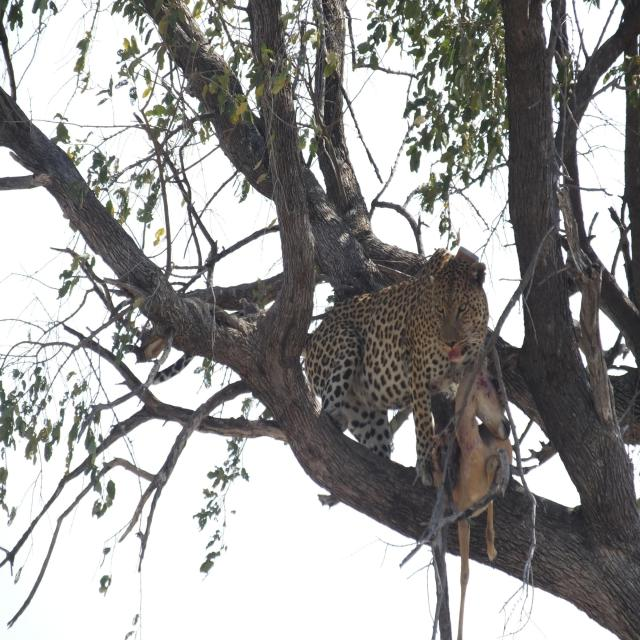Leopard: (143, 256, 505, 480)
